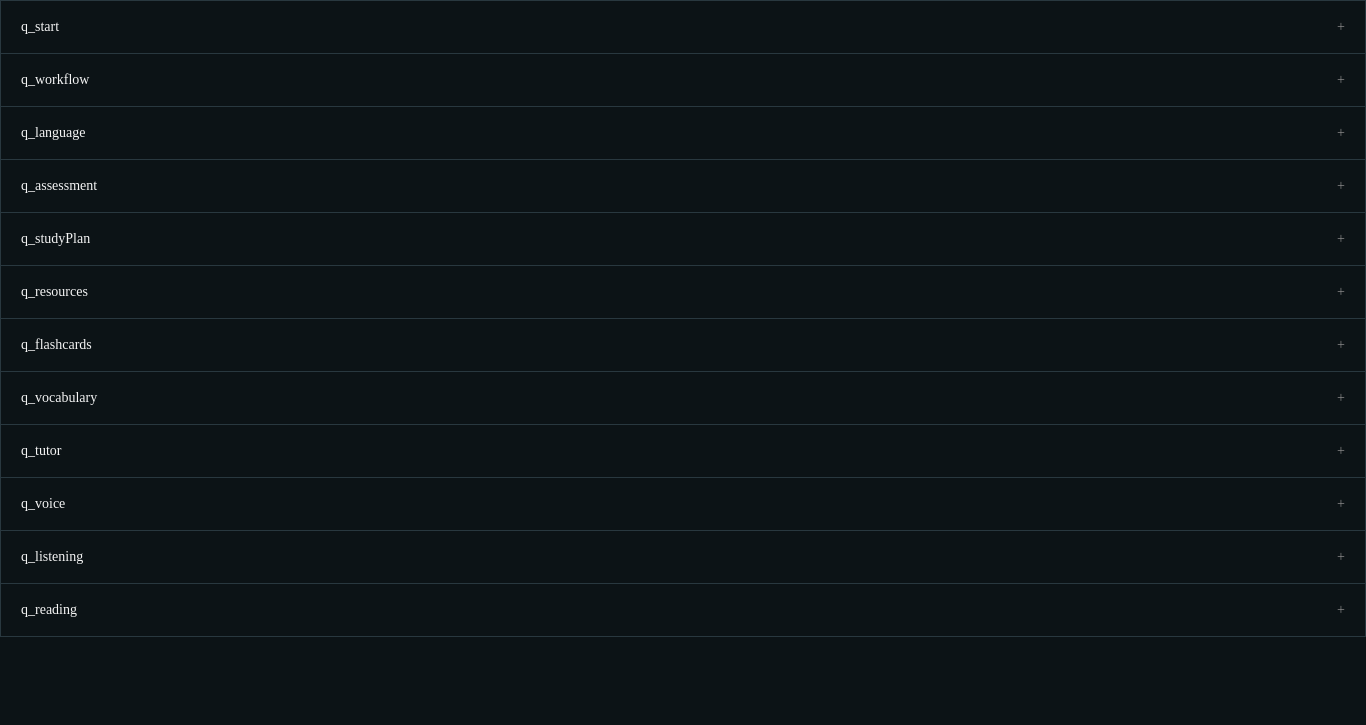
Test: LandingFAQ › renders the six ordered steps for the workflow answer
Click the button "q_workflow +" at (55, 80), box [1,54,1365,106]
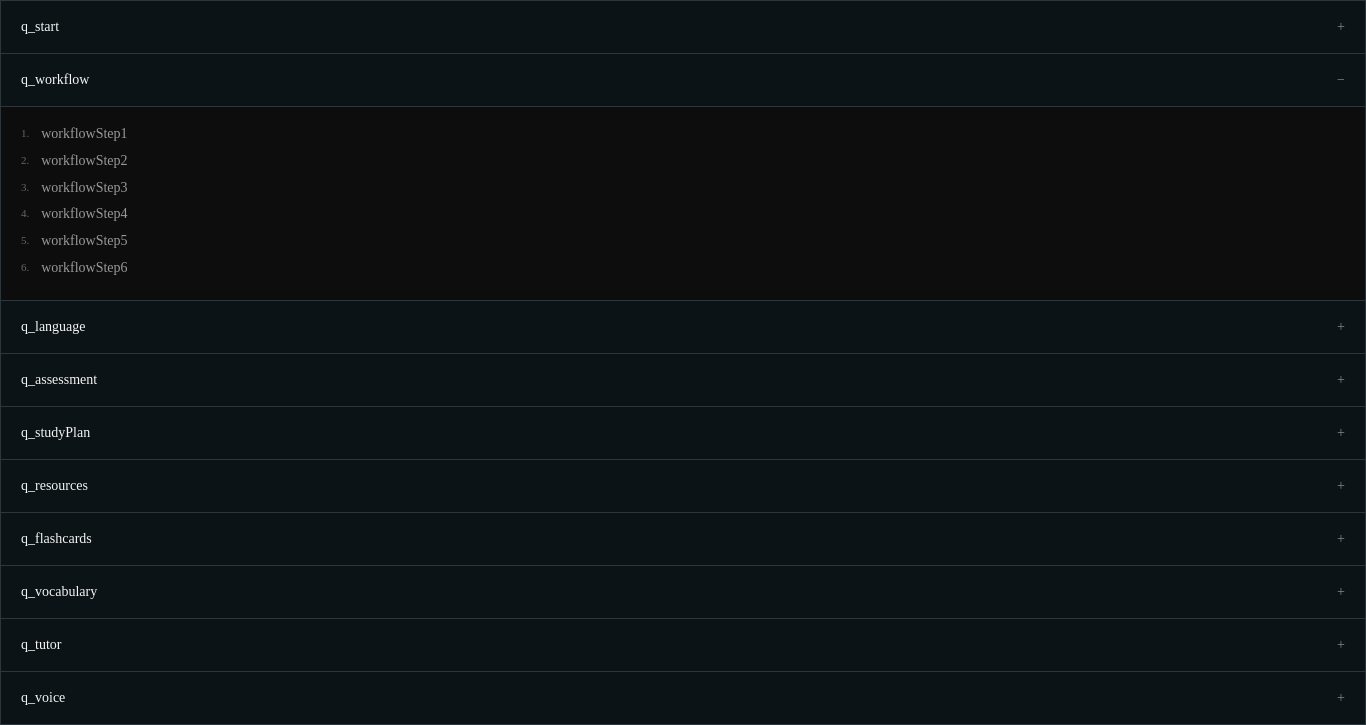
Result: the number of list items is 6 at [21,126,128,141]; [21,153,128,168]; [21,180,128,194]; [21,206,128,221]; [21,233,128,248]; [21,260,128,275]
Result: the text "workflowStep1" is shown at [41,123,128,146]
Result: the text "workflowStep6" is shown at [41,257,128,280]
